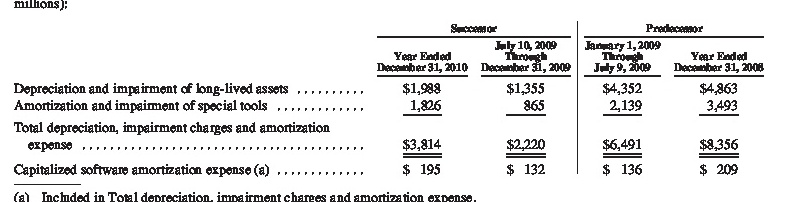table: (0, 0, 788, 202)
